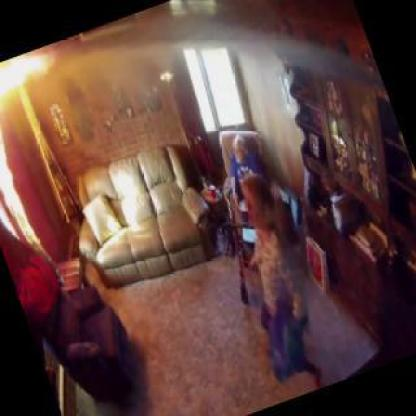Fire: (0, 42, 120, 256)
